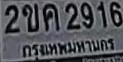1: (96, 0, 106, 27)
2: (4, 4, 19, 32), (64, 2, 79, 29)
6: (109, 1, 122, 25)
9: (80, 1, 93, 28)
A02: (21, 3, 38, 31)
A04: (42, 2, 59, 30)
BKK: (18, 37, 117, 57)
